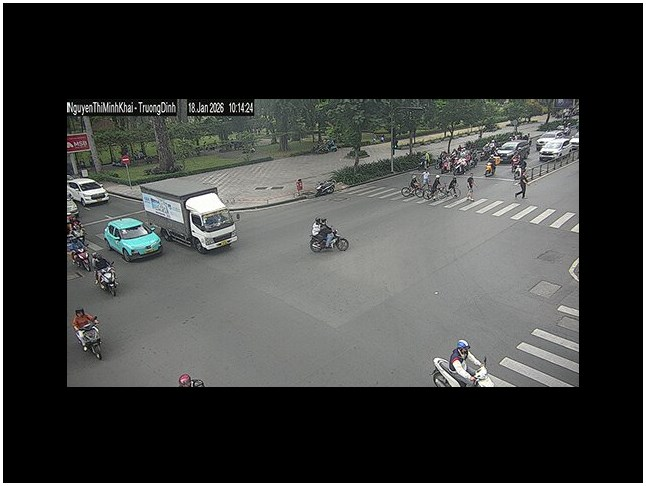car: (104, 215, 164, 262), (67, 177, 109, 207), (495, 141, 527, 161)
motorbike: (309, 222, 349, 254), (74, 319, 103, 360), (95, 264, 119, 296)
truck: (140, 174, 240, 252)
